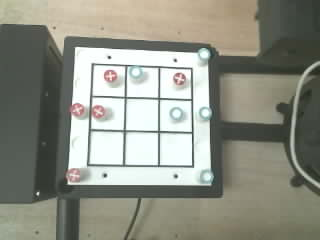blue circle: (169, 107, 183, 120), (200, 169, 213, 183), (199, 107, 212, 120), (129, 66, 142, 78), (198, 48, 210, 60)
board: (67, 47, 213, 185)
cells: (89, 131, 122, 164), (125, 132, 157, 165), (160, 133, 192, 165), (91, 98, 124, 129), (126, 99, 158, 130), (160, 100, 191, 131), (93, 65, 124, 96), (160, 68, 191, 98), (127, 67, 158, 97)
grid: (87, 63, 193, 167)
red cross: (66, 168, 80, 182), (104, 70, 118, 83), (70, 103, 84, 116), (173, 72, 186, 85), (92, 105, 105, 118)
